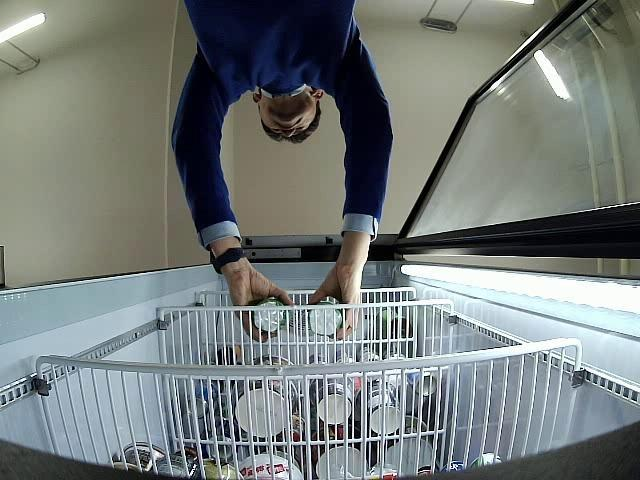18_trevi: (253, 299, 287, 334), (310, 300, 342, 336)
